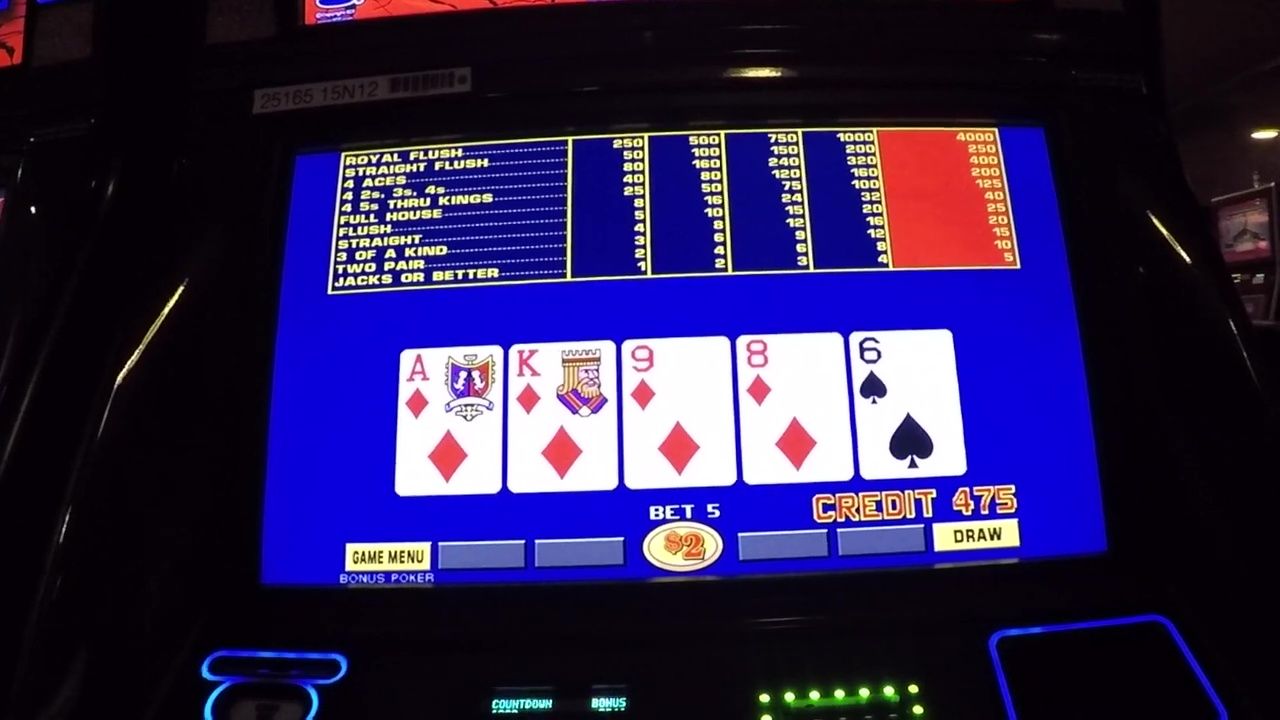D8: (741, 336, 845, 409)
D9: (625, 340, 728, 415)
DA: (403, 348, 502, 422)
DK: (508, 343, 615, 424)
S6: (854, 334, 953, 405)
